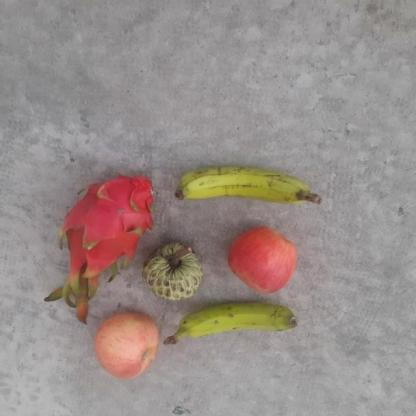annona: (147, 243, 204, 302)
apple: (229, 224, 299, 293), (94, 311, 163, 378)
banana: (175, 299, 303, 353), (171, 162, 307, 210)
pitaya: (63, 170, 158, 273)
